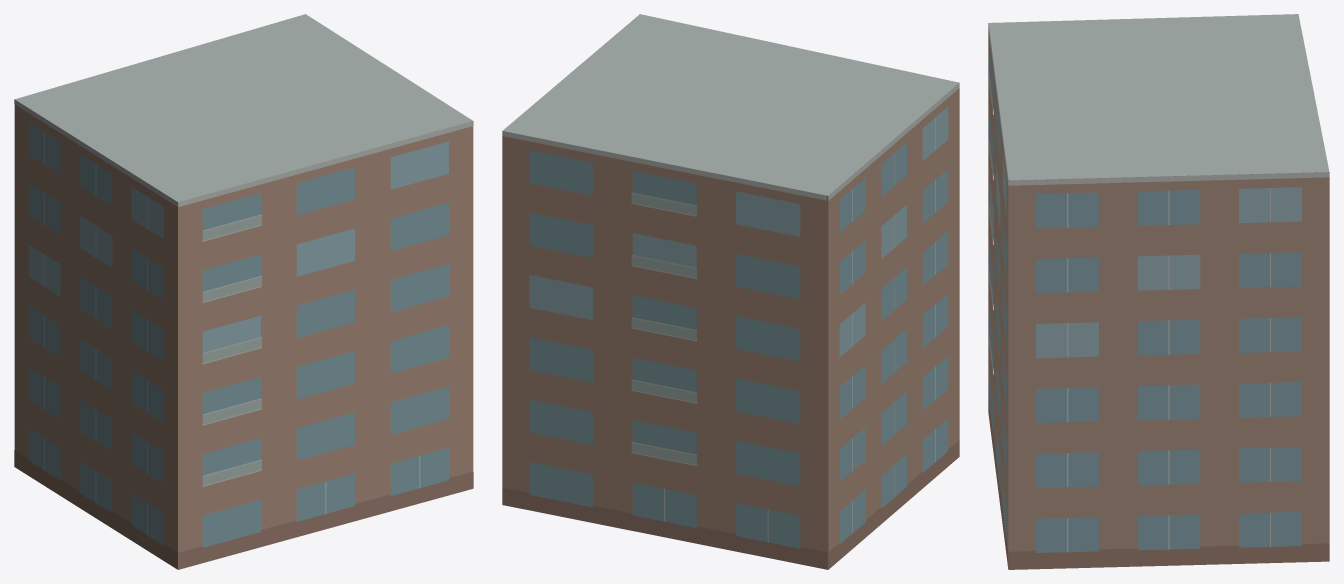
File: survey-upis-32737182.glb
3 views of the same model, side by side, from view 1: azimuth 30°, elevation 25°; view 2: azimuth 150°, elevation 25°; view 3: azimuth 270°, elevation 25° (orthographic). The views are drawn at different scales.
Parts seen in each view (by area): view 1: survey-upis-32737182.tmp; view 2: survey-upis-32737182.tmp; view 3: survey-upis-32737182.tmp.
Part boxes in pixels (bbox=[...]): survey-upis-32737182.tmp: bbox=[14, 14, 473, 569]; survey-upis-32737182.tmp: bbox=[502, 14, 959, 569]; survey-upis-32737182.tmp: bbox=[988, 14, 1329, 569].
Size of the model in its own units: 16.42 by 17.9 by 14.22.
